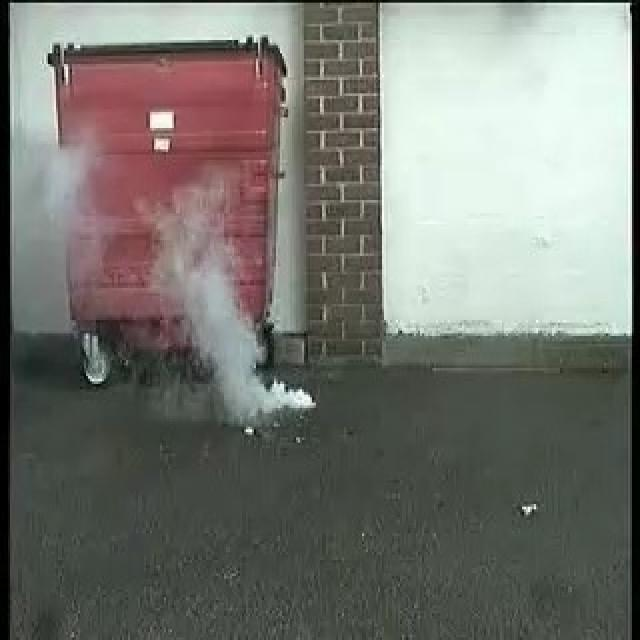smoke: (146, 192, 308, 414)
